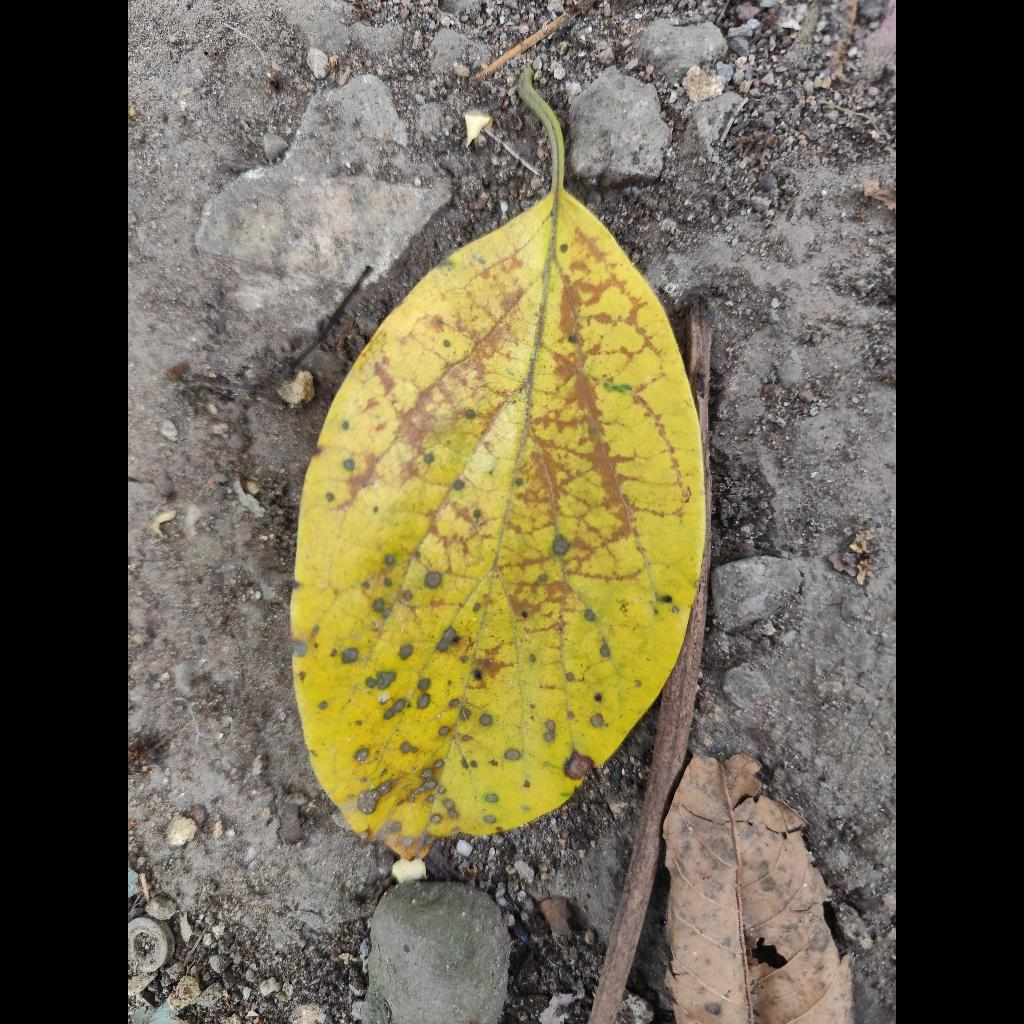nutrient_deficiency: (291, 71, 705, 860)
